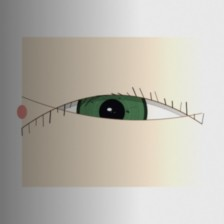hemorrhage_spot: (32, 90, 126, 165)
